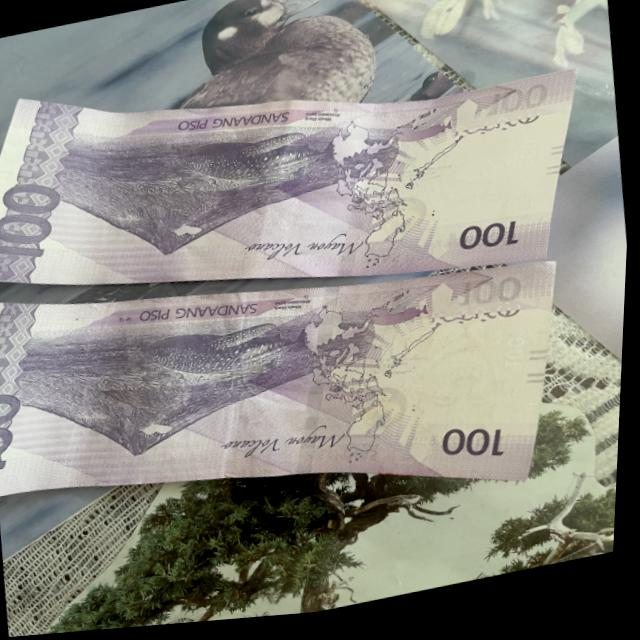100_whale: (119, 301, 344, 411), (174, 109, 369, 207)
100_whale_watermark: (345, 285, 438, 346), (385, 106, 469, 160)
value_watermark: (491, 333, 540, 387)
watermark: (380, 305, 551, 458)
